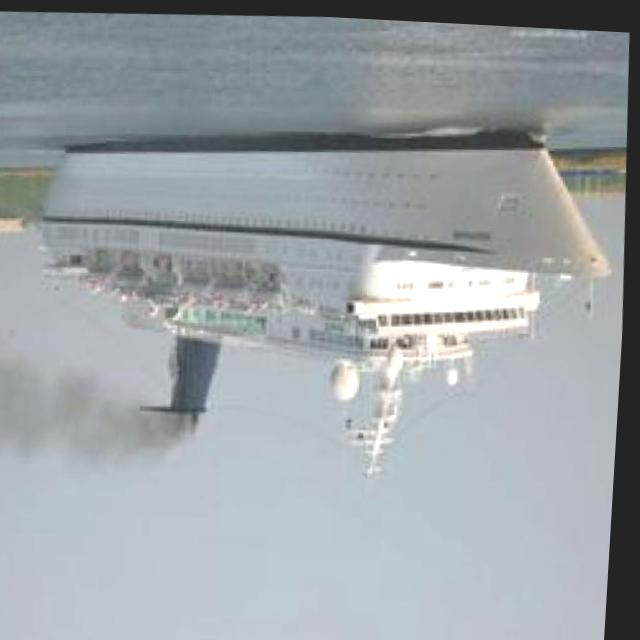ship2: (41, 123, 614, 474)
